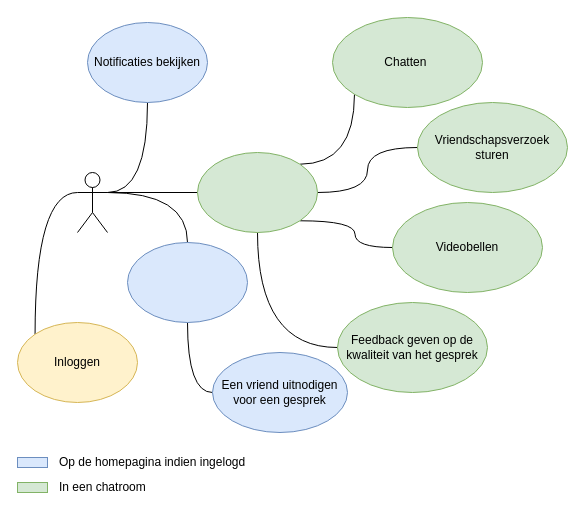
Some shapes in this 585 by 515 pixel diagram are drawn without their labels. Each missing label, with the centre of its shape:
Een chatroom toetreden (groep of 1 op 1): point (257, 192)
Gebruiker: point (92, 202)
Vrienden bekijken: point (187, 282)
